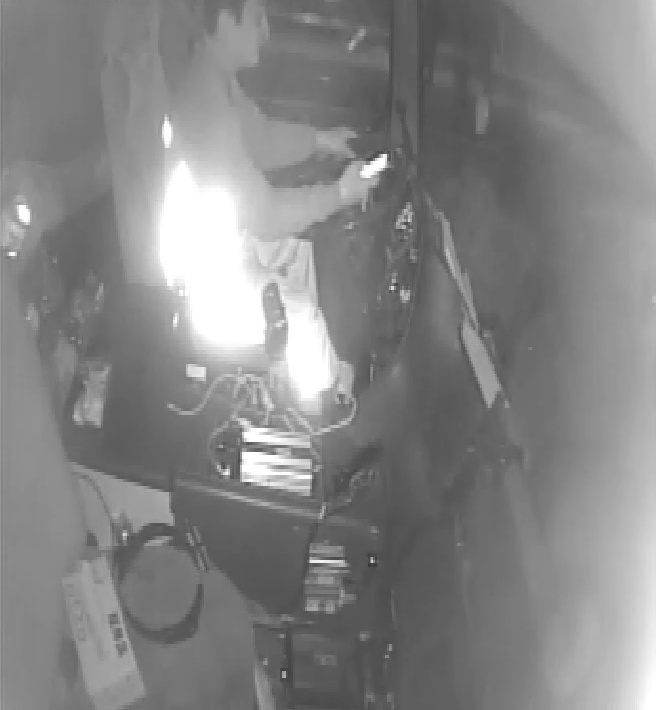cellphone: (350, 151, 391, 180)
